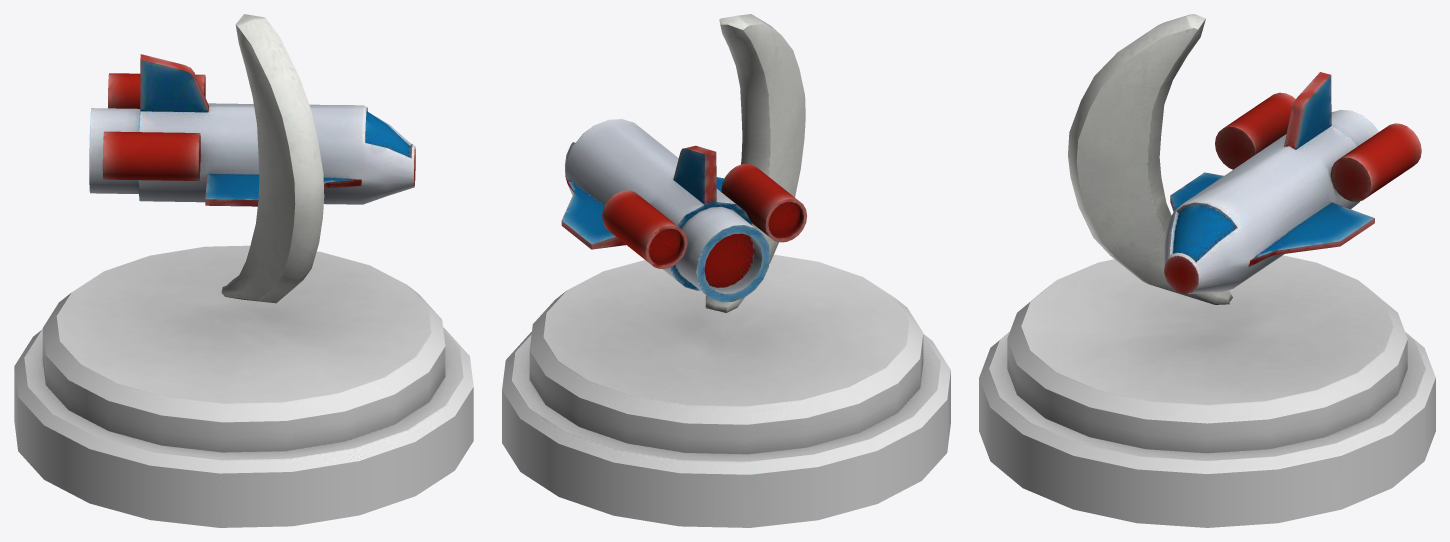
Rendered from NAV2PRATA.fbx.
The picture shows the model from 3 angles, left to right: view 1: azimuth 30°, elevation 25°; view 2: azimuth 150°, elevation 25°; view 3: azimuth 270°, elevation 25°; orthographic projection. The views are drawn at different scales.
Visible parts, largest first — view 1: polySurface104, polySurface101; view 2: polySurface104, polySurface101; view 3: polySurface104, polySurface101.
Boxes of the visible parts, x1,y1,x2,y2 form: polySurface104: (14, 245, 473, 527); polySurface101: (89, 14, 415, 303); polySurface104: (502, 254, 950, 527); polySurface101: (561, 14, 806, 312); polySurface104: (979, 255, 1435, 527); polySurface101: (1068, 14, 1421, 304).
Size of the model in its own units: 0.4773 by 0.4784 by 0.4773.
Materials: 1 (1 with a texture image).
